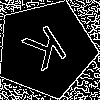K: (21, 23, 75, 81)
